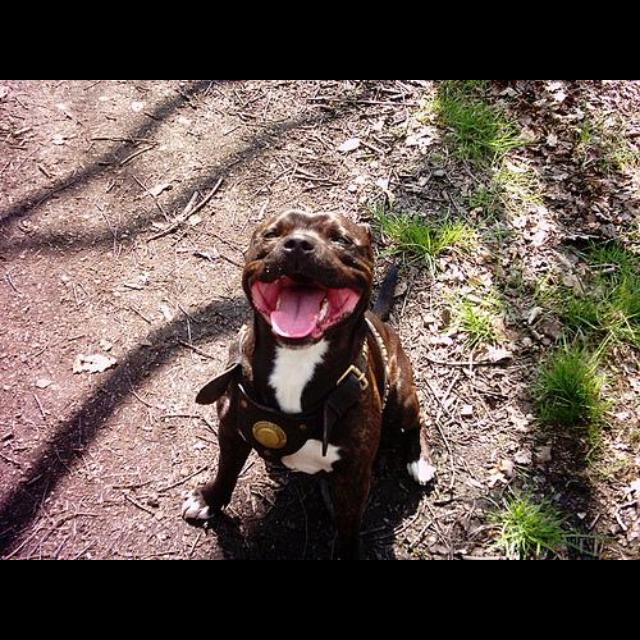staffford: (181, 208, 437, 558)
